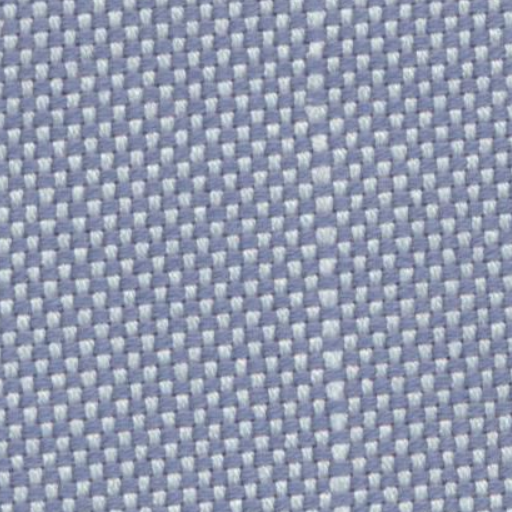TuoSha: (284, 10, 392, 502)
